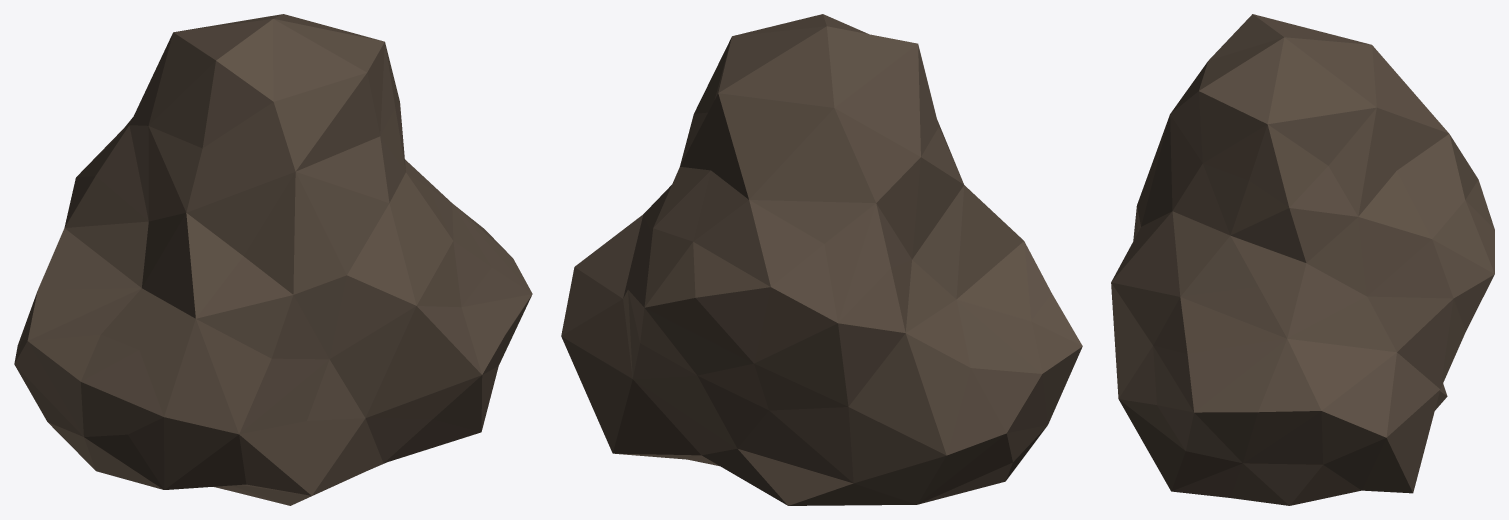
File: SM_Rock_001.fbx
The picture shows the model from 3 angles, left to right: view 1: azimuth 30°, elevation 25°; view 2: azimuth 150°, elevation 25°; view 3: azimuth 270°, elevation 25°; orthographic projection. The views are drawn at different scales.
Parts seen in each view (by area): view 1: Icosphere; view 2: Icosphere; view 3: Icosphere.
Part boxes in pixels (box(x1,y1,x2,y2)): Icosphere: box(14, 14, 532, 505); Icosphere: box(561, 14, 1082, 505); Icosphere: box(1111, 14, 1494, 505).
Size of the model in its own units: 268 by 261 by 204.
